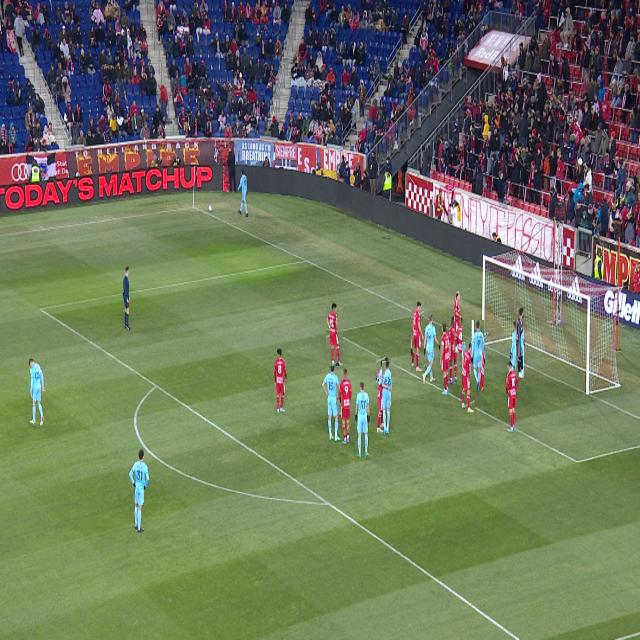goalkeeper: (517, 308, 524, 378)
player: (129, 449, 149, 532), (322, 363, 341, 441), (422, 314, 440, 384), (29, 359, 45, 426), (327, 304, 343, 366), (339, 368, 352, 444), (356, 382, 369, 458), (506, 361, 519, 432), (462, 343, 475, 413), (274, 349, 287, 414), (472, 321, 484, 391), (412, 302, 424, 371), (377, 379, 392, 433), (440, 323, 451, 395), (449, 317, 459, 384), (509, 322, 520, 378), (454, 291, 462, 353), (378, 387, 388, 434), (376, 358, 391, 389), (383, 361, 389, 382)
referee: (123, 266, 130, 330)
